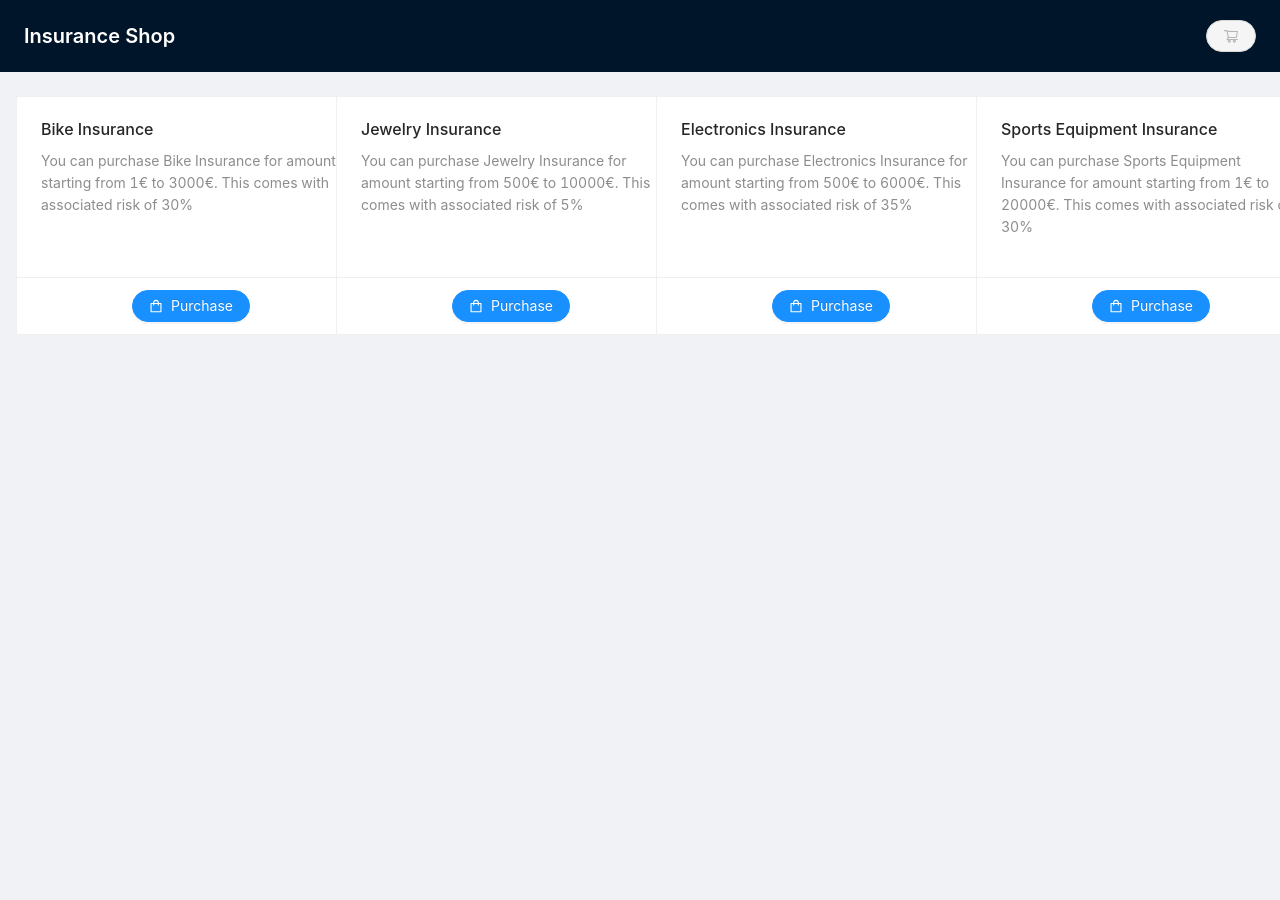
Test case: Insurance Form Tests › Adding to Cart should close the Form and update Badge Icon Count
Click the 1st button with class "InsuranceModuleCard__btn" at (191,306), box [132,290,250,322]
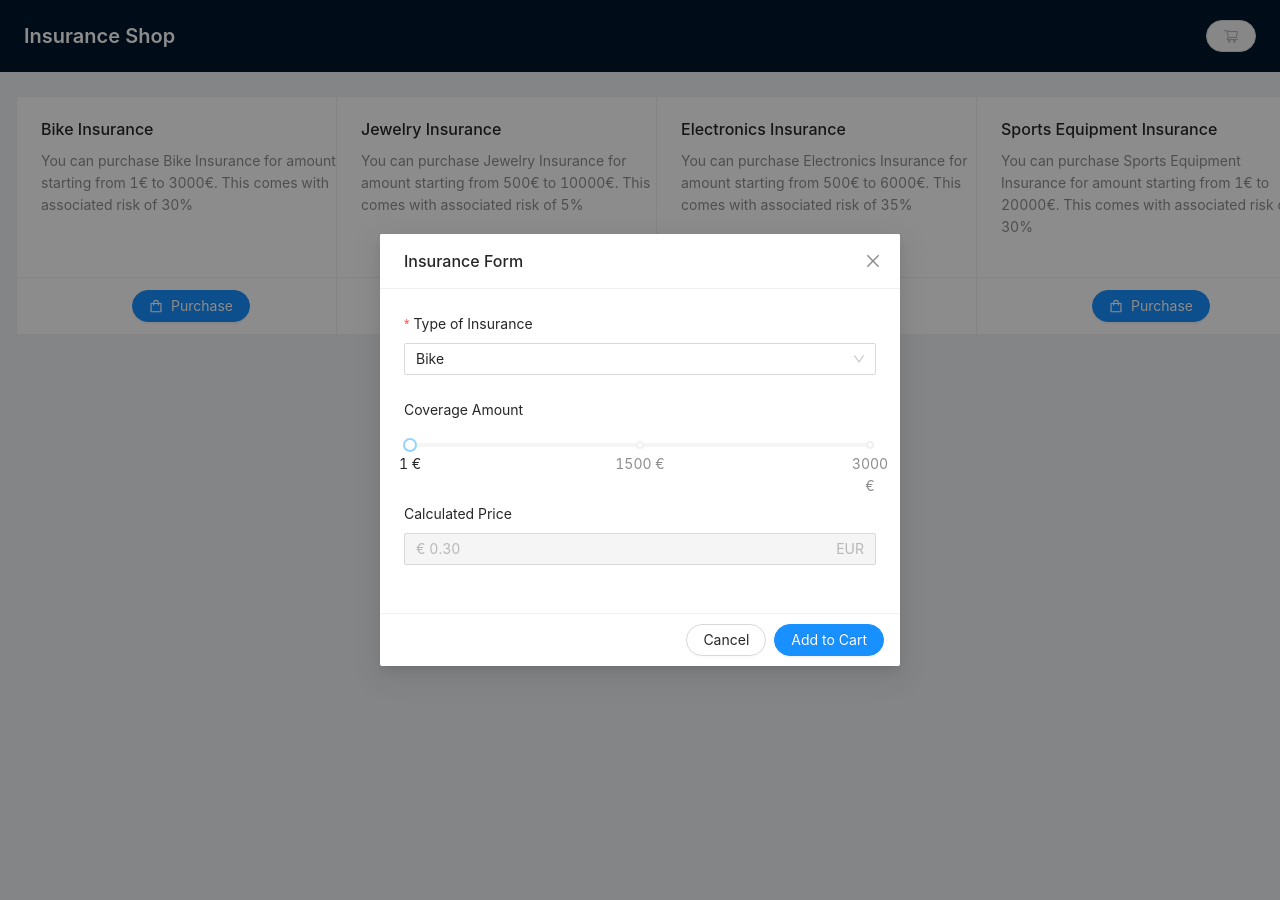
Click the button with class "InsuranceForm__okBtn" at (829,640), box [774,624,884,656]
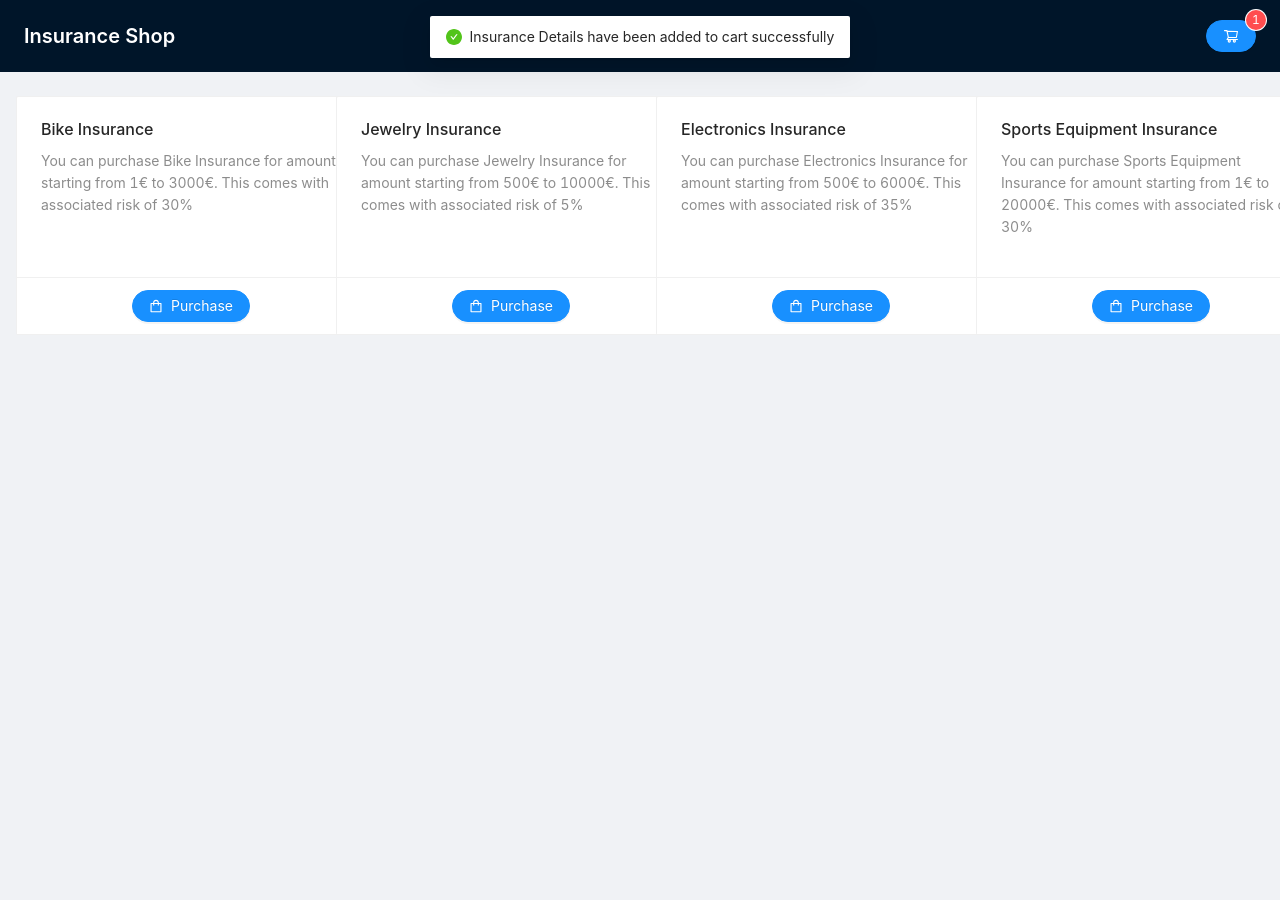
Expected: the text "1" is shown, [1252,12,1260,27]
Expected: the dialog with class "InsuranceForm" is gone
